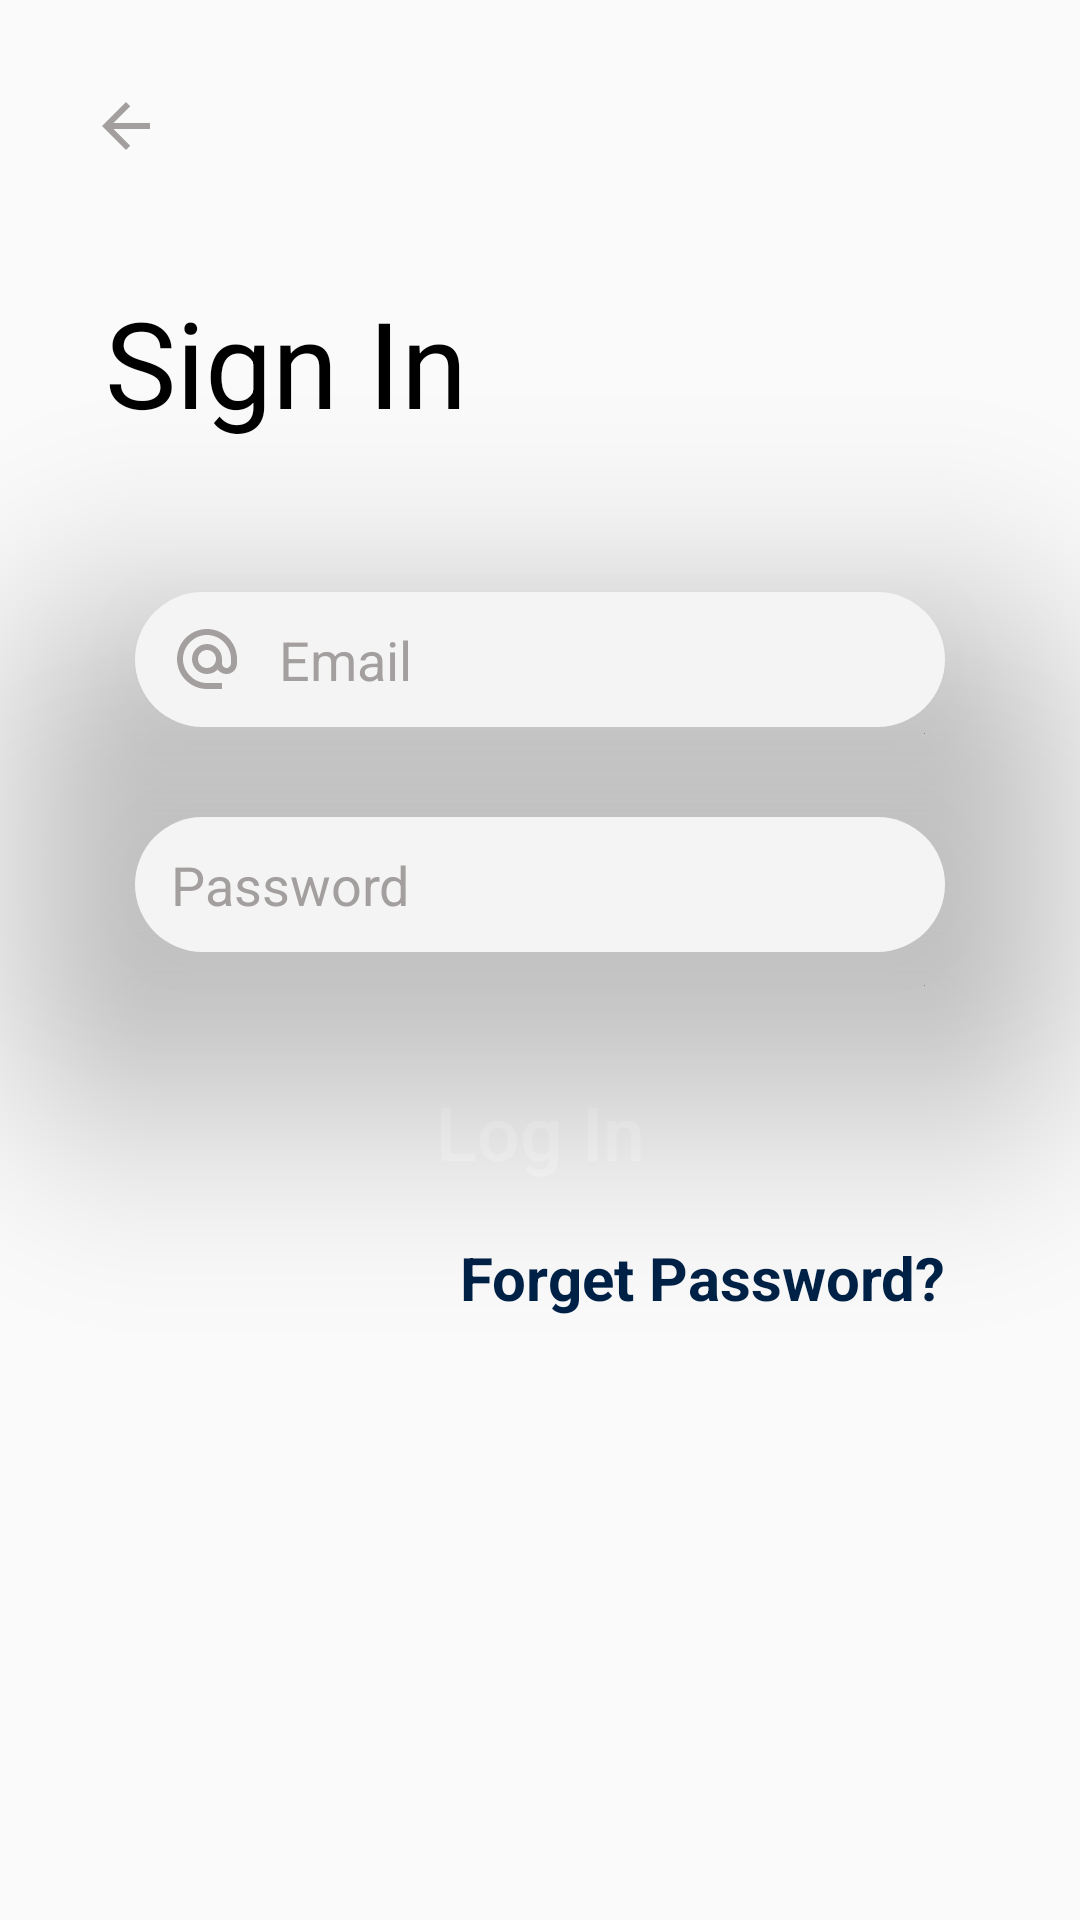

Icon bounding boxes for this 1080w x 1920h phone screenshot, format box(x1, y1, x2, y2):
arrow back: box(102, 102, 150, 150)
